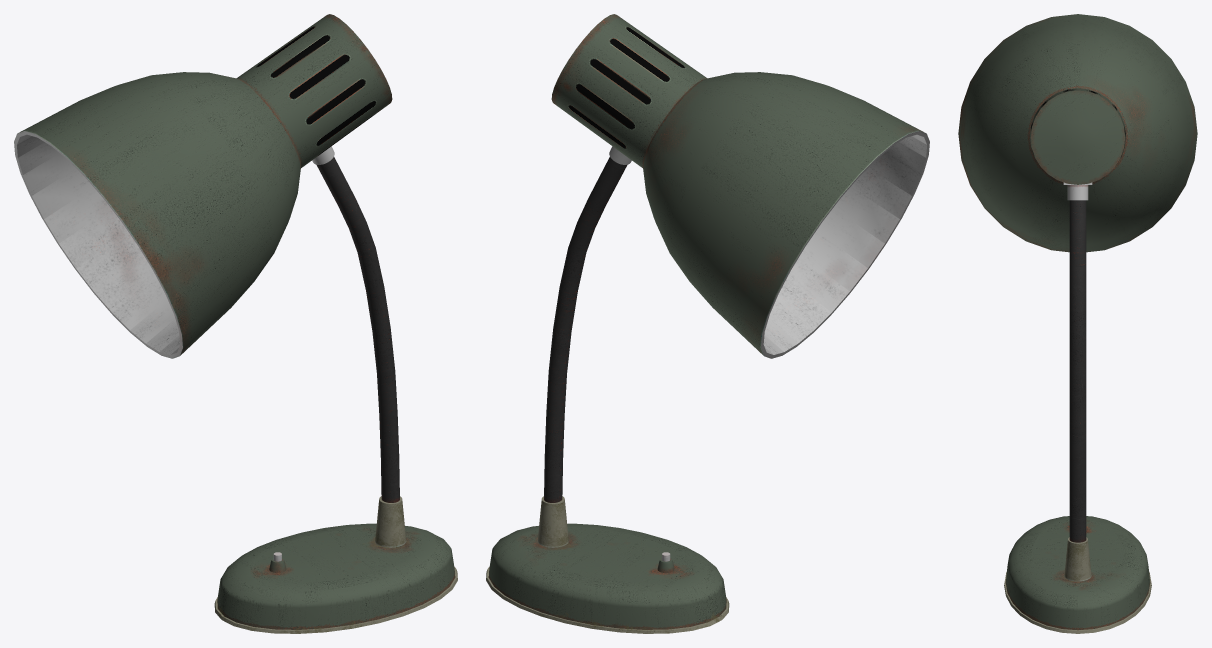
Rendered from lamp.gltf.
3 renders of one model, left to right at view 1: azimuth 30°, elevation 25°; view 2: azimuth 150°, elevation 25°; view 3: azimuth 270°, elevation 25°, orthographic. The views are drawn at different scales.
Parts seen in each view (by area): view 1: head_low, base_low, cable_low, base_piece_low; view 2: head_low, base_low, cable_low, base_piece_low; view 3: head_low, base_low, cable_low, base_piece_low, head_piece_low.
Part boxes in pixels (bbox=[...]): head_low: bbox=[14, 14, 392, 358]; base_low: bbox=[214, 523, 457, 633]; cable_low: bbox=[316, 157, 399, 502]; base_piece_low: bbox=[375, 496, 406, 547]; head_low: bbox=[551, 14, 929, 358]; base_low: bbox=[486, 523, 729, 633]; cable_low: bbox=[544, 157, 627, 502]; base_piece_low: bbox=[537, 496, 568, 547]; head_low: bbox=[958, 14, 1197, 252]; base_low: bbox=[1004, 516, 1151, 633]; cable_low: bbox=[1069, 200, 1086, 542]; base_piece_low: bbox=[1064, 537, 1091, 581]; head_piece_low: bbox=[1063, 182, 1092, 200].
Bounding box in the file's own units: 3.08 × 4.21 × 1.84.
Materials: 1 (1 with a texture image).
